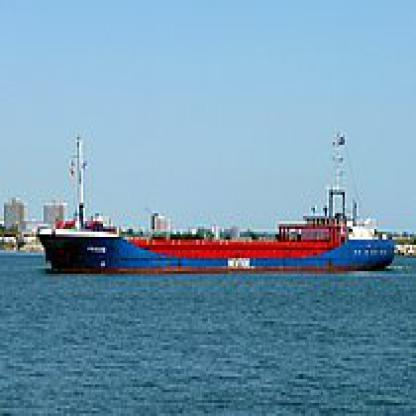Container Ship: (35, 129, 396, 274)
